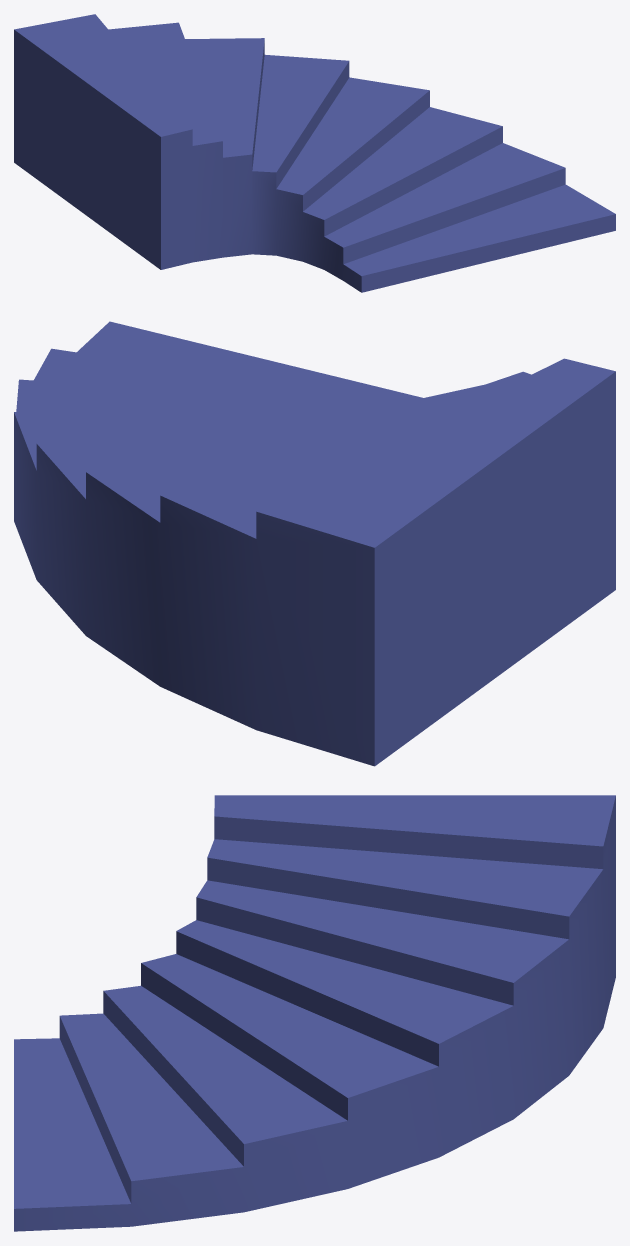
The model's file is SM_Stair_Curved_Low_01.fbx.
3 renders of one model, top to bottom at view 1: azimuth 30°, elevation 25°; view 2: azimuth 150°, elevation 25°; view 3: azimuth 270°, elevation 25°, orthographic. The views are drawn at different scales.
Parts seen in each view (by area): view 1: SM_Stair_Curved_Low_01; view 2: SM_Stair_Curved_Low_01; view 3: SM_Stair_Curved_Low_01.
Boxes of the visible parts, x1=… form: SM_Stair_Curved_Low_01: x1=14, y1=14, x2=615, y2=292; SM_Stair_Curved_Low_01: x1=14, y1=321, x2=615, y2=766; SM_Stair_Curved_Low_01: x1=14, y1=795, x2=615, y2=1231.
Size of the model in its own units: 300 by 100 by 300.
